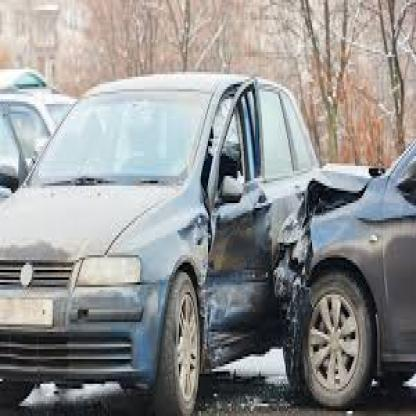accident: (182, 76, 386, 412)
